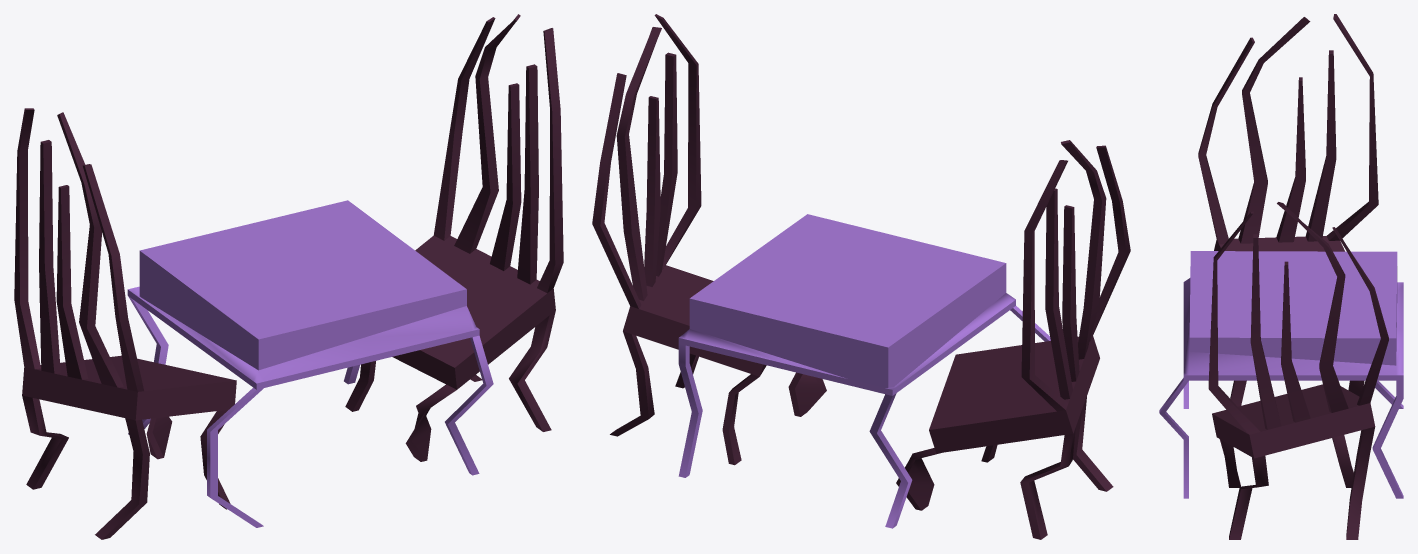
File: Table.fbx
3 renders of one model, left to right at view 1: azimuth 30°, elevation 25°; view 2: azimuth 150°, elevation 25°; view 3: azimuth 270°, elevation 25°, orthographic. The views are drawn at different scales.
Parts seen in each view (by area): view 1: pCube1, pCube2, pCube3; view 2: pCube1, pCube2, pCube3; view 3: pCube1, pCube3, pCube2.
Part boxes in pixels (x1,y1,x2,y2): pCube1: [127, 200, 493, 527]; pCube2: [14, 108, 236, 539]; pCube3: [345, 14, 563, 461]; pCube1: [678, 214, 1050, 528]; pCube2: [896, 140, 1130, 539]; pCube3: [592, 14, 826, 465]; pCube1: [1159, 251, 1403, 498]; pCube3: [1208, 202, 1388, 539]; pCube2: [1198, 14, 1378, 406].
Size of the model in its own units: 12.01 by 9.25 by 6.09.
